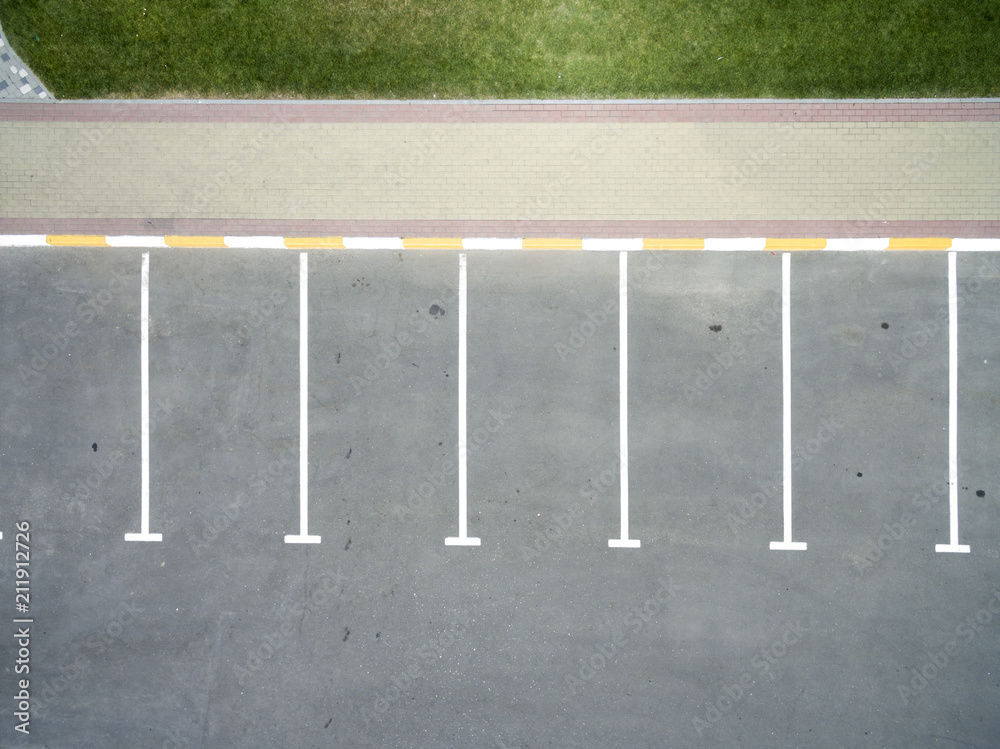dolu: (785, 250, 955, 550), (619, 255, 790, 548), (139, 253, 307, 547), (301, 256, 467, 549), (458, 255, 626, 544), (1, 252, 149, 545)
